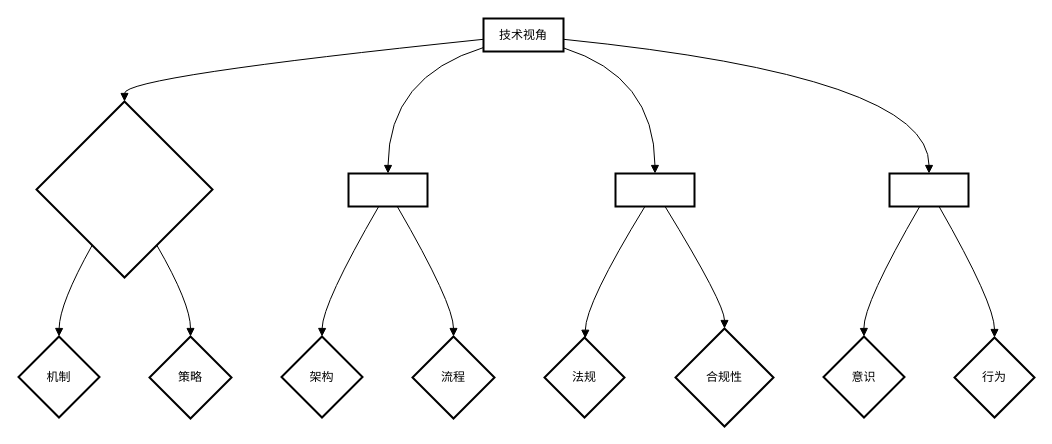
Image size: 1052x444. Some labels were removed from this diagram. The box of each missing label's shape, as (x1, y1, x2, y2) in pixels:
法律视角: (614, 172, 695, 207)
用户视角: (888, 172, 969, 207)
组织视角: (347, 172, 428, 207)
网络安全四个视角: (35, 100, 213, 278)
